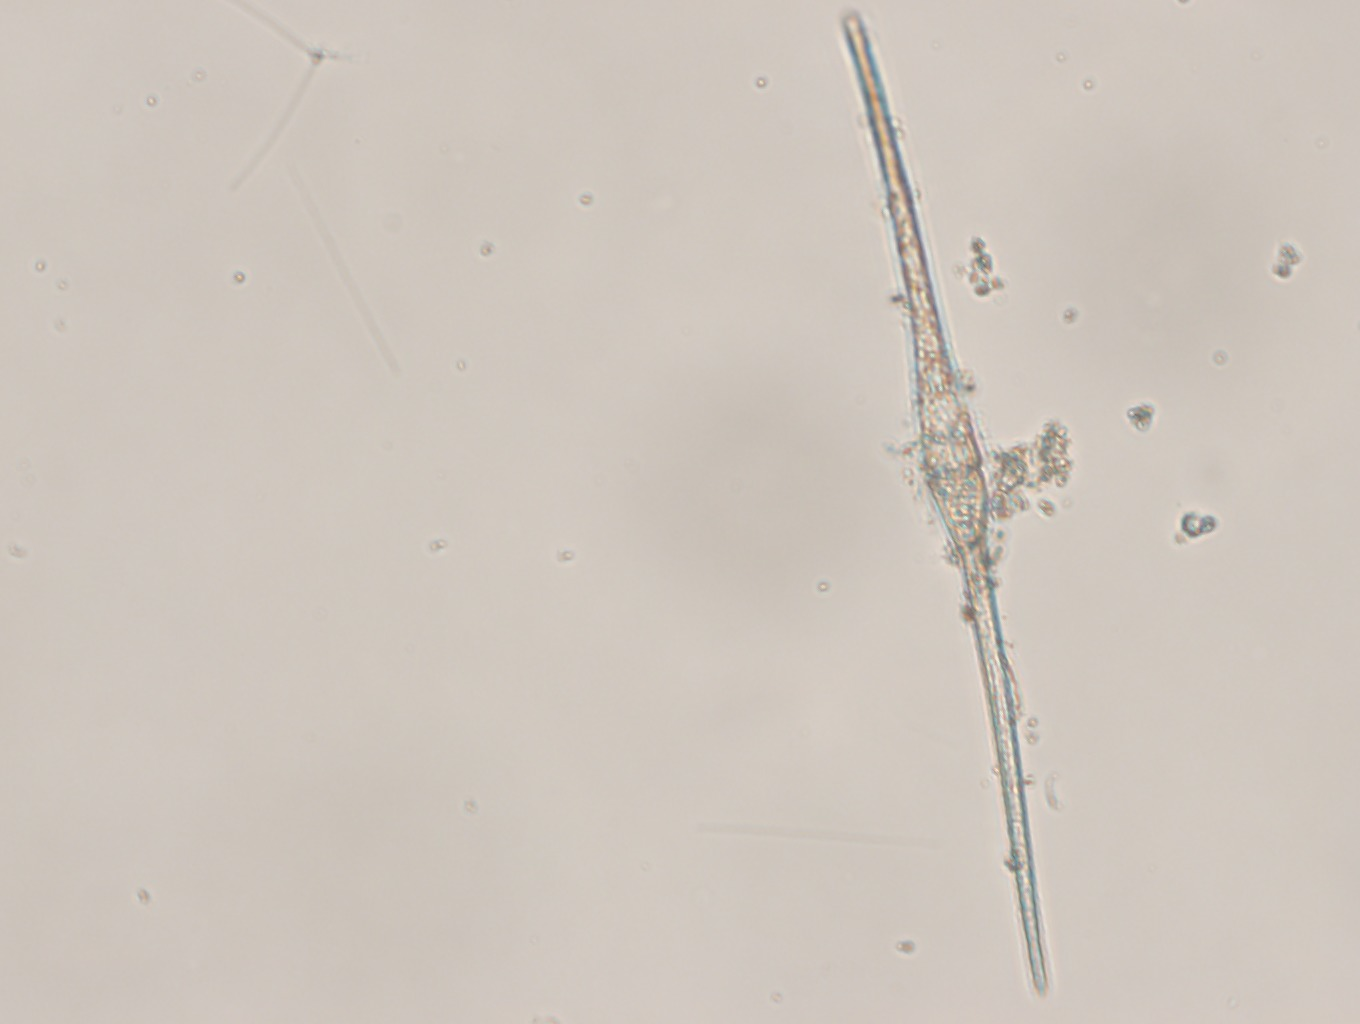ceratium fusus: (832, 11, 1061, 1013)
